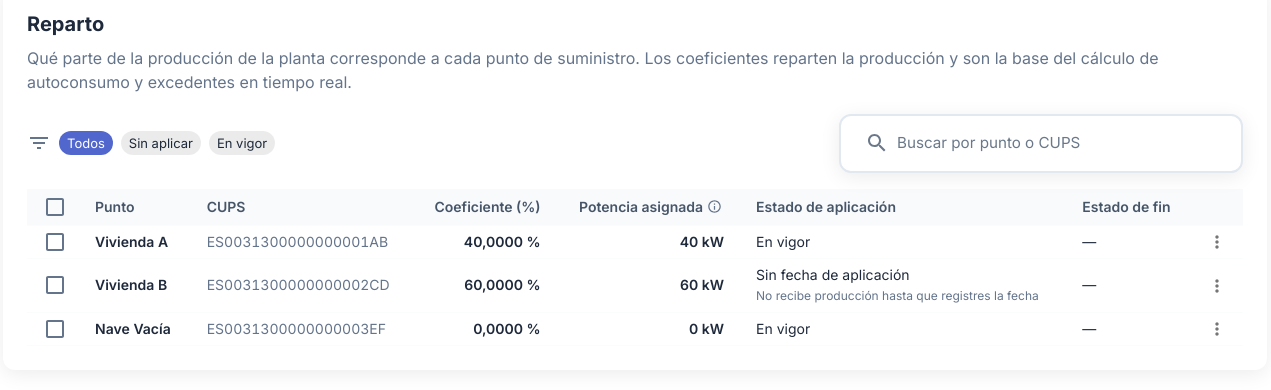
SharingAgreementCoefficientSet › filters rows by applicationState chip
The width and height of the screenshot is (1271, 390).
What coordinates should you click on to do the following:
click the button "Sin aplicar"
I would click on:
 (161, 143)
Its box is [121,131,201,155].
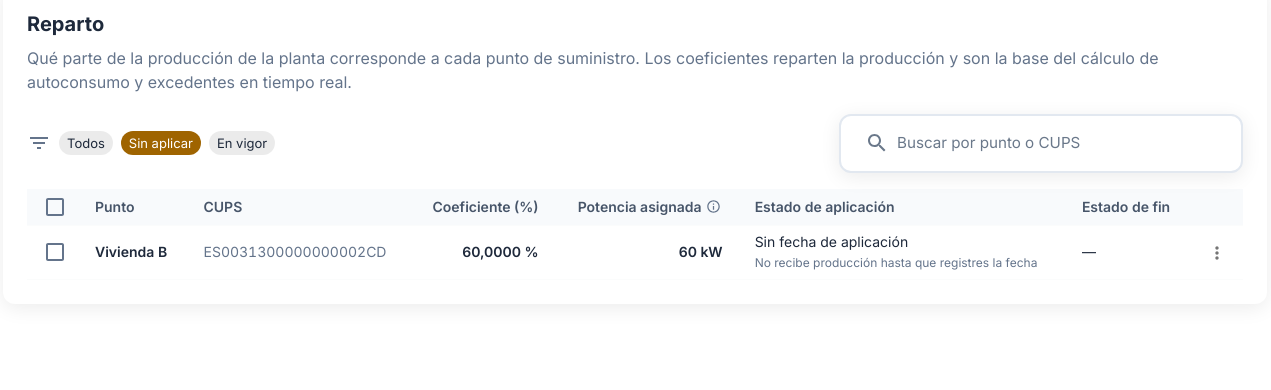
Expected: the text "Vivienda B" is shown, [95,242,167,262]
Now the text "Vivienda A" is gone
